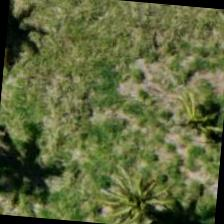Kelapa_Sawit: (128, 67, 223, 166), (65, 152, 162, 223)
